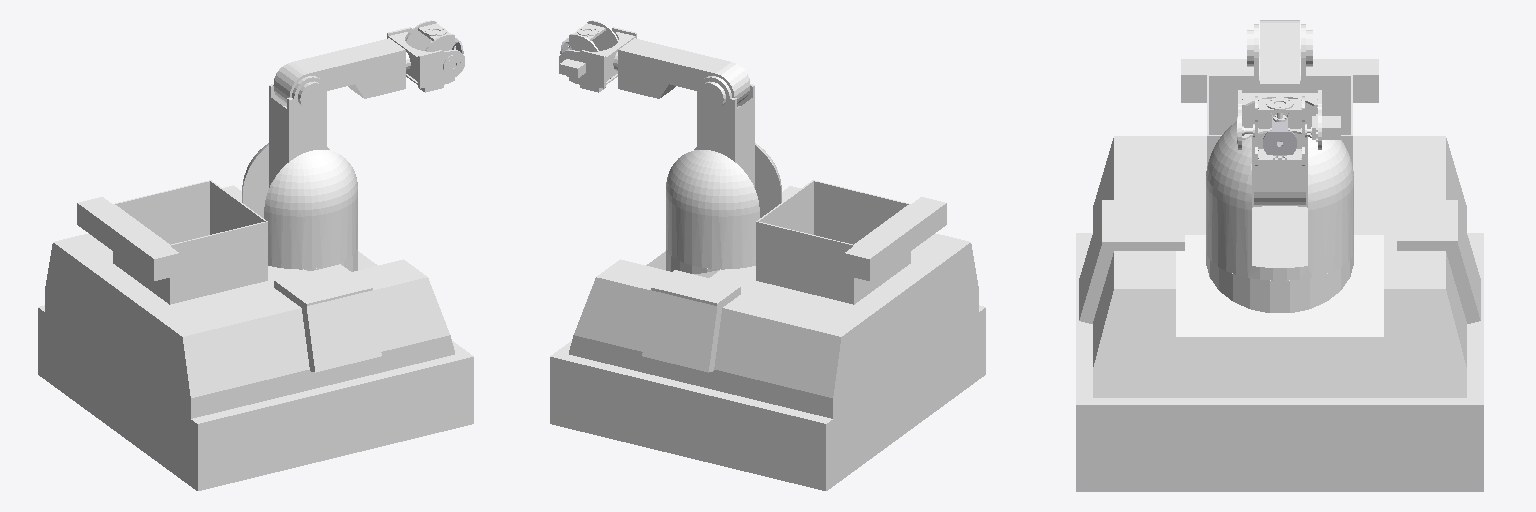
robot.urdf — pixle_godzilla:
<?xml version="1.0" encoding="utf-8"?>
<!-- This URDF was automatically created by SolidWorks to URDF Exporter! Originally created by [author] ([email redacted]) 
     Commit Version: 1.5.1-0-g916b5db  Build Version: 1.5.7152.31018
     For more information, please see http://wiki.ros.org/sw_urdf_exporter -->
<robot
  name="pixle_godzilla">
  <link
    name="base_link">
    <inertial>
      <origin
        xyz="-8.16730634702638E-05 0.13984285173906 -0.0153390282843539"
        rpy="0 0 1.5708" />
      <mass
        value="92.5579966055029" />
      <inertia
        ixx="3.18294943092091"
        ixy="0.00118919543838747"
        ixz="0.000342820576389713"
        iyy="4.92429108625664"
        iyz="0.165207356728358"
        izz="3.12655627149977" />
    </inertial>
    <visual>
      <origin
        xyz="0 0 0"
        rpy="0 0 1.5708" />
      <geometry>
        <mesh
          filename="package://pixle_godzilla/meshes/base_link.STL" />
      </geometry>
      <material
        name="">
        <color
          rgba="1 1 1 1" />
      </material>
    </visual>
    <collision>
      <origin
        xyz="0 0 0"
        rpy="0 0 1.5708" />
      <geometry>
        <mesh
          filename="package://pixle_godzilla/meshes/base_link.STL" />
      </geometry>
    </collision>
  </link>
  <link
    name="shoulder">
    <inertial>
      <origin
        xyz="0 0.0796968098192792 1.38777878078145E-17"
        rpy="0 0 0" />
      <mass
        value="3.65972330316483" />
      <inertia
        ixx="0.0187688423989809"
        ixy="4.2351647362715E-19"
        ixz="1.27375243231002E-10"
        iyy="0.0239400432221818"
        iyz="-1.21679856967423E-18"
        izz="0.0265455743803694" />
    </inertial>
    <visual>
      <origin
        xyz="0 0 0"
        rpy="0 0 0" />
      <geometry>
        <mesh
          filename="package://pixle_godzilla/meshes/shoulder.STL" />
      </geometry>
      <material
        name="">
        <color
          rgba="1 1 1 1" />
      </material>
    </visual>
    <collision>
      <origin
        xyz="0 0 0"
        rpy="0 0 0" />
      <geometry>
        <mesh
          filename="package://pixle_godzilla/meshes/shoulder.STL" />
      </geometry>
    </collision>
  </link>
  <joint
    name="shoulder"
    type="revolute">
    <origin
      xyz="0.09425 0 0.2925"
      rpy="1.5708 0 1.5708" />
    <parent
      link="base_link" />
    <child
      link="shoulder" />
    <axis
      xyz="0 1 0" />
    <limit
      lower="-1.5708"
      upper="4.18879"
      effort="100.0"
      velocity="40.0" />
    <safety_controller
      soft_upper_limit="4.18879"
      soft_lower_limit="-1.5708"
      k_position="100.0"
      k_velocity="80.0" />
  </joint>
  <link
    name="arm">
    <inertial>
      <origin
        xyz="-0.00442534732237772 0.0856261227947502 -1.1960985287925E-17"
        rpy="0 0 0" />
      <mass
        value="1.30424013184074" />
      <inertia
        ixx="0.00664727823178329"
        ixy="5.60569909364734E-05"
        ixz="1.07055078512681E-19"
        iyy="0.00140099636059824"
        iyz="-4.85666135848229E-19"
        izz="0.00656524534131322" />
    </inertial>
    <visual>
      <origin
        xyz="0 0 0"
        rpy="0 0 0" />
      <geometry>
        <mesh
          filename="package://pixle_godzilla/meshes/arm.STL" />
      </geometry>
      <material
        name="">
        <color
          rgba="1 1 1 1" />
      </material>
    </visual>
    <collision>
      <origin
        xyz="0 0 0"
        rpy="0 0 0" />
      <geometry>
        <mesh
          filename="package://pixle_godzilla/meshes/arm.STL" />
      </geometry>
    </collision>
  </link>
  <joint
    name="arm"
    type="revolute">
    <origin
      xyz="0 0.108 0"
      rpy="0 -1.5708 0" />
    <parent
      link="shoulder" />
    <child
      link="arm" />
    <axis
      xyz="0 0 1" />
    <limit
      lower="-2.0736"
      upper="0.7853981634"
      effort="100.0"
      velocity="40.0" />
    <safety_controller
      soft_upper_limit="0.7853981634"
      soft_lower_limit="-2.0736"
      k_position="100.0"
      k_velocity="80.0" />
  </joint>
  <link
    name="forearm">
    <inertial>
      <origin
        xyz="0.0936923463087018 3.10951717816003E-17 -0.00413431758700977"
        rpy="0 0 0" />
      <mass
        value="0.984291918362788" />
      <inertia
        ixx="0.00073510497708009"
        ixy="-1.95966583165041E-18"
        ixz="-9.05203433722015E-05"
        iyy="0.00602869610341503"
        iyz="-2.19264466748436E-20"
        izz="0.00585688135039201" />
    </inertial>
    <visual>
      <origin
        xyz="0 0 0"
        rpy="0 0 0" />
      <geometry>
        <mesh
          filename="package://pixle_godzilla/meshes/forearm.STL" />
      </geometry>
      <material
        name="">
        <color
          rgba="1 1 1 1" />
      </material>
    </visual>
    <collision>
      <origin
        xyz="0 0 0"
        rpy="0 0 0" />
      <geometry>
        <mesh
          filename="package://pixle_godzilla/meshes/forearm.STL" />
      </geometry>
    </collision>
  </link>
  <joint
    name="forearm"
    type="revolute">
    <origin
      xyz="0 0.213 0"
      rpy="1.5708 0 0" />
    <parent
      link="arm" />
    <child
      link="forearm" />
    <axis
      xyz="0 1 0" />
    <limit
      lower="-0.7679"
      upper="2.2689280276"
      effort="100.0"
      velocity="40.0" />
    <safety_controller
      soft_upper_limit="2.2689280276"
      soft_lower_limit="-0.8901179185"
      k_position="100.0"
      k_velocity="80.0" />
  </joint>
  <link
    name="roll_spindle">
    <inertial>
      <origin
        xyz="0.0144703804867855 -0.0394302540215672 -1.18932169901314E-16"
        rpy="0 0 0" />
      <mass
        value="0.126380309298372" />
      <inertia
        ixx="0.000131246756841335"
        ixy="3.59197079416034E-05"
        ixz="-3.65434048020945E-20"
        iyy="0.000392083371850193"
        iyz="1.82165674008812E-20"
        izz="0.000455982270176141" />
    </inertial>
    <visual>
      <origin
        xyz="0 0 0"
        rpy="0 0 0" />
      <geometry>
        <mesh
          filename="package://pixle_godzilla/meshes/roll_spindle.STL" />
      </geometry>
      <material
        name="">
        <color
          rgba="1 1 1 1" />
      </material>
    </visual>
    <collision>
      <origin
        xyz="0 0 0"
        rpy="0 0 0" />
      <geometry>
        <mesh
          filename="package://pixle_godzilla/meshes/roll_spindle.STL" />
      </geometry>
    </collision>
  </link>
  <joint
    name="roll_spindle"
    type="revolute">
    <origin
      xyz="0.22 0 -0.003"
      rpy="0 3.1416 1.5708" />
    <parent
      link="forearm" />
    <child
      link="roll_spindle" />
    <axis
      xyz="0 1 0" />
    <limit
      lower="-3.15"
      upper="3.15"
      effort="100.0"
      velocity="40.0" />
    <safety_controller
      soft_upper_limit="3.15"
      soft_lower_limit="-3.15"
      k_position="100.0"
      k_velocity="80.0" />
  </joint>
  <link
    name="pitch_spindle">
    <inertial>
      <origin
        xyz="0.00879862952479366 -0.0138699194515684 1.11022302462516E-16"
        rpy="0 0 0" />
      <mass
        value="0.107322328062624" />
      <inertia
        ixx="0.000203203433206688"
        ixy="5.35436366442418E-06"
        ixz="7.13210729614397E-20"
        iyy="8.69977626846247E-05"
        iyz="-4.74952483620863E-20"
        izz="0.000168233733559111" />
    </inertial>
    <visual>
      <origin
        xyz="0 0 0"
        rpy="0 0 0" />
      <geometry>
        <mesh
          filename="package://pixle_godzilla/meshes/pitch_spindle.STL" />
      </geometry>
      <material
        name="">
        <color
          rgba="1 1 1 1" />
      </material>
    </visual>
    <collision>
      <origin
        xyz="0 0 0"
        rpy="0 0 0" />
      <geometry>
        <mesh
          filename="package://pixle_godzilla/meshes/pitch_spindle.STL" />
      </geometry>
    </collision>
  </link>
  <joint
    name="pitch_spindle"
    type="revolute">
    <origin
      xyz="0 -0.07 0"
      rpy="1.5708 0 1.5708" />
    <parent
      link="roll_spindle" />
    <child
      link="pitch_spindle" />
    <axis
      xyz="0 0 1" />
    <limit
      lower="-3.1415926536"
      upper="3.1415926536"
      effort="100.0"
      velocity="40.0" />
    <safety_controller
      soft_upper_limit="3.1415926536"
      soft_lower_limit="-3.1415926536"
      k_position="100.0"
      k_velocity="80.0" />
  </joint>
  <link
    name="yaw_spindle">
    <inertial>
      <origin
        xyz="-1.11022302462516E-16 -0.028687821744227 8.9395409083665E-17"
        rpy="0 0 0" />
      <mass
        value="0.0352524228409237" />
      <inertia
        ixx="1.67234651240252E-05"
        ixy="-3.3460949508167E-22"
        ixz="-5.89488498692369E-22"
        iyy="1.10882910473656E-05"
        iyz="1.38863248007155E-21"
        izz="1.35987914275225E-05" />
    </inertial>
    <visual>
      <origin
        xyz="0 0 0"
        rpy="0 0 0" />
      <geometry>
        <mesh
          filename="package://pixle_godzilla/meshes/yaw_spindle.STL" />
      </geometry>
      <material
        name="">
        <color
          rgba="0.866666666666667 0.866666666666667 0.890196078431372 1" />
      </material>
    </visual>
    <collision>
      <origin
        xyz="0 0 0"
        rpy="0 0 0" />
      <geometry>
        <mesh
          filename="package://pixle_godzilla/meshes/yaw_spindle.STL" />
      </geometry>
    </collision>
  </link>
  <joint
    name="yaw_spindle"
    type="revolute">
    <origin
      xyz="0 0 0"
      rpy="1.5708 1.5708 0" />
    <parent
      link="pitch_spindle" />
    <child
      link="yaw_spindle" />
    <axis
      xyz="0 0 1" />
    <limit
      lower="-0.7116"
      upper="0.7116"
      effort="100.0"
      velocity="40.0" />
    <safety_controller
      soft_upper_limit="0.7116"
      soft_lower_limit="-0.7116"
      k_position="100.0"
      k_velocity="80.0" />
  </joint>
</robot>

--- What the picture shows (computed from the rendered views, not written in the file) ---
Views: 3 orthographic renders of the robot side by side, from view 1: azimuth 30°, elevation 25°; view 2: azimuth 150°, elevation 25°; view 3: azimuth 270°, elevation 25°.
Robot: pixle_godzilla — 7 links, 6 joints (6 revolute); root link base_link; default pose: all joints at 0.
Visible links, largest first — view 1: base_link, shoulder, forearm, arm, roll_spindle, pitch_spindle; view 2: base_link, shoulder, forearm, arm, roll_spindle, pitch_spindle; view 3: base_link, shoulder, arm, roll_spindle, forearm, pitch_spindle, yaw_spindle.
Link boxes in pixels (x1,y1,x2,y2): base_link: (38,180,473,490); shoulder: (242,143,357,269); forearm: (273,38,410,103); arm: (269,65,326,187); roll_spindle: (387,27,464,88); pitch_spindle: (405,20,454,92); base_link: (550,180,985,490); shoulder: (666,143,781,269); forearm: (613,38,750,103); arm: (697,65,754,187); roll_spindle: (559,27,636,88); pitch_spindle: (569,20,618,92); base_link: (1076,59,1483,491); shoulder: (1206,121,1353,280); arm: (1247,24,1312,205); roll_spindle: (1237,90,1340,149); forearm: (1260,20,1299,133); pitch_spindle: (1255,96,1304,177); yaw_spindle: (1263,118,1296,154).
Size in the robot's own frame: 0.7273 by 0.59 by 0.6664 metres.
Meshes: 7 distinct files referenced, 7 mesh visuals loaded (7 binary STL).